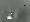person: (7, 10, 14, 19)
